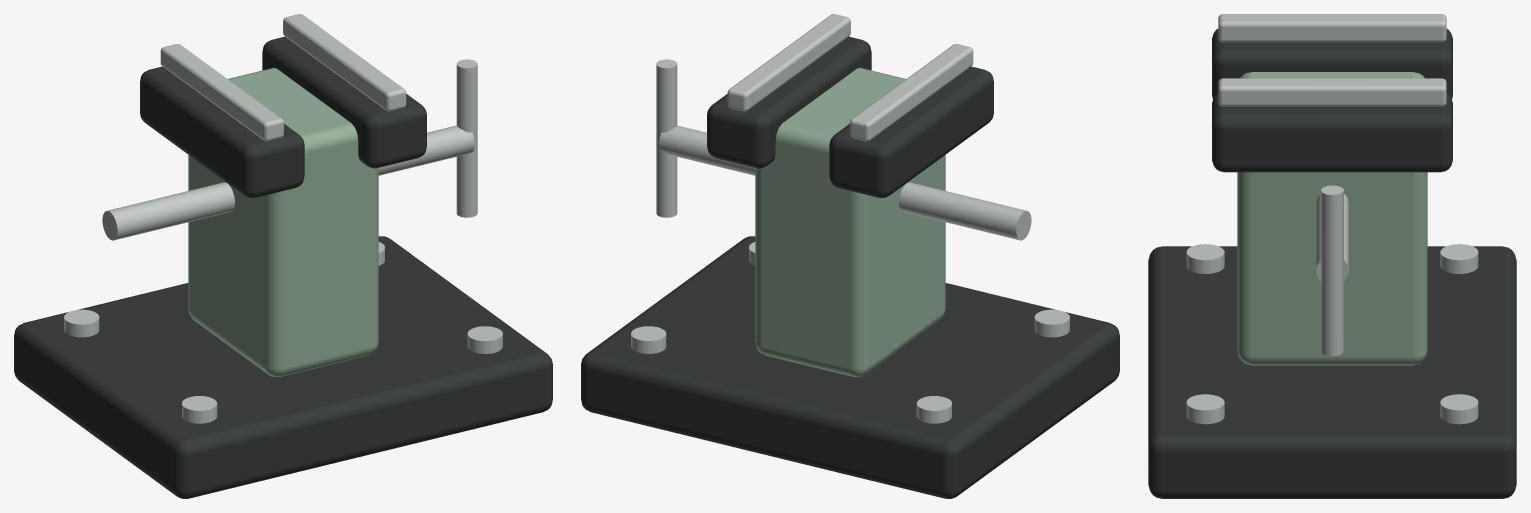
File: abandoned-telephone-exchange-cable-splicing-vise-25f36eaa__32015.glb
3 views of the same model, side by side, from view 1: azimuth 30°, elevation 25°; view 2: azimuth 150°, elevation 25°; view 3: azimuth 270°, elevation 25° (orthographic). The views are drawn at different scales.
Parts seen in each view (by area): view 1: cable-splicing-vise; view 2: cable-splicing-vise; view 3: cable-splicing-vise.
Part boxes in pixels (<box>): cable-splicing-vise: <box>14,14,552,498</box>; cable-splicing-vise: <box>581,14,1119,498</box>; cable-splicing-vise: <box>1148,14,1516,498</box>.
Size of the model in its own units: 0.374 by 0.308 by 0.29.
